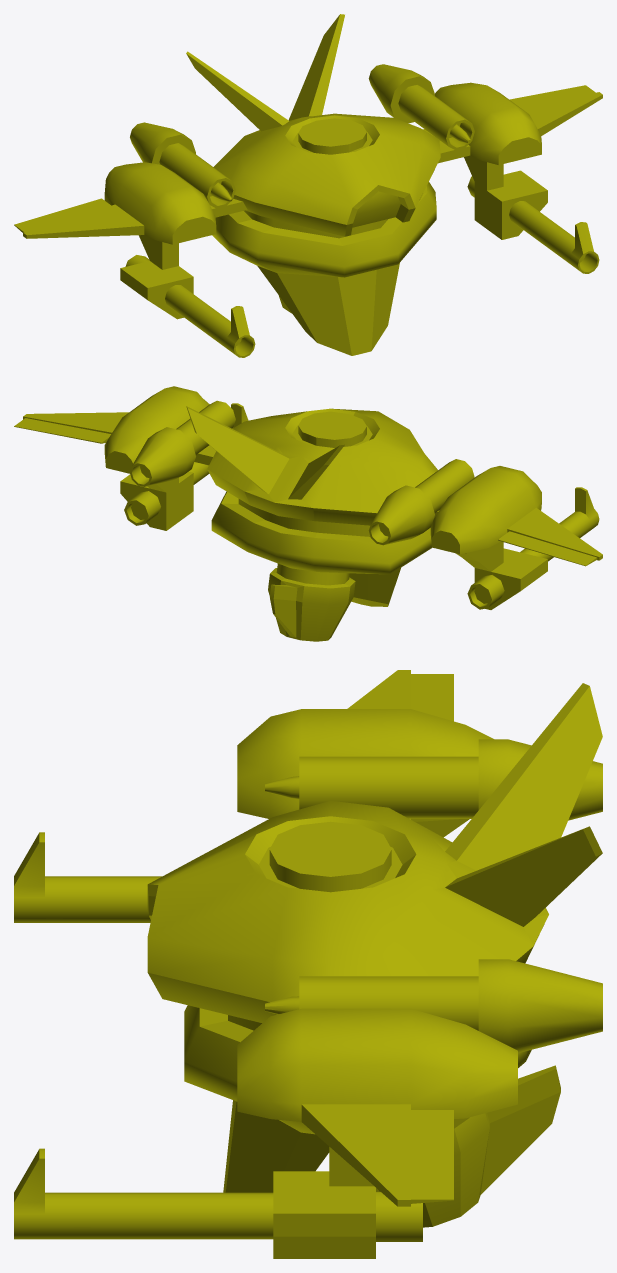
The model's file is robot_centimetri.fbx.
3 renders of one model, top to bottom at view 1: azimuth 30°, elevation 25°; view 2: azimuth 150°, elevation 25°; view 3: azimuth 270°, elevation 25°, orthographic. The views are drawn at different scales.
Parts seen in each view (by area): view 1: robot01_body, robot01_cannonL, robot01_cannonR; view 2: robot01_body, robot01_cannonR, robot01_cannonL; view 3: robot01_body, robot01_cannonL, robot01_cannonR.
Boxes of the visible parts, left/top/right/bottom form: robot01_body: left=14, top=14, right=602, bottom=355; robot01_cannonL: left=464, top=155, right=599, bottom=273; robot01_cannonR: left=120, top=235, right=255, bottom=357; robot01_body: left=14, top=386, right=602, bottom=641; robot01_cannonR: left=456, top=487, right=599, bottom=609; robot01_cannonL: left=120, top=403, right=248, bottom=530; robot01_body: left=147, top=670, right=602, bottom=1227; robot01_cannonL: left=14, top=1117, right=469, bottom=1258; robot01_cannonR: left=14, top=819, right=469, bottom=922.
Bounding box in the file's own units: 174 × 72.08 × 81.8.
